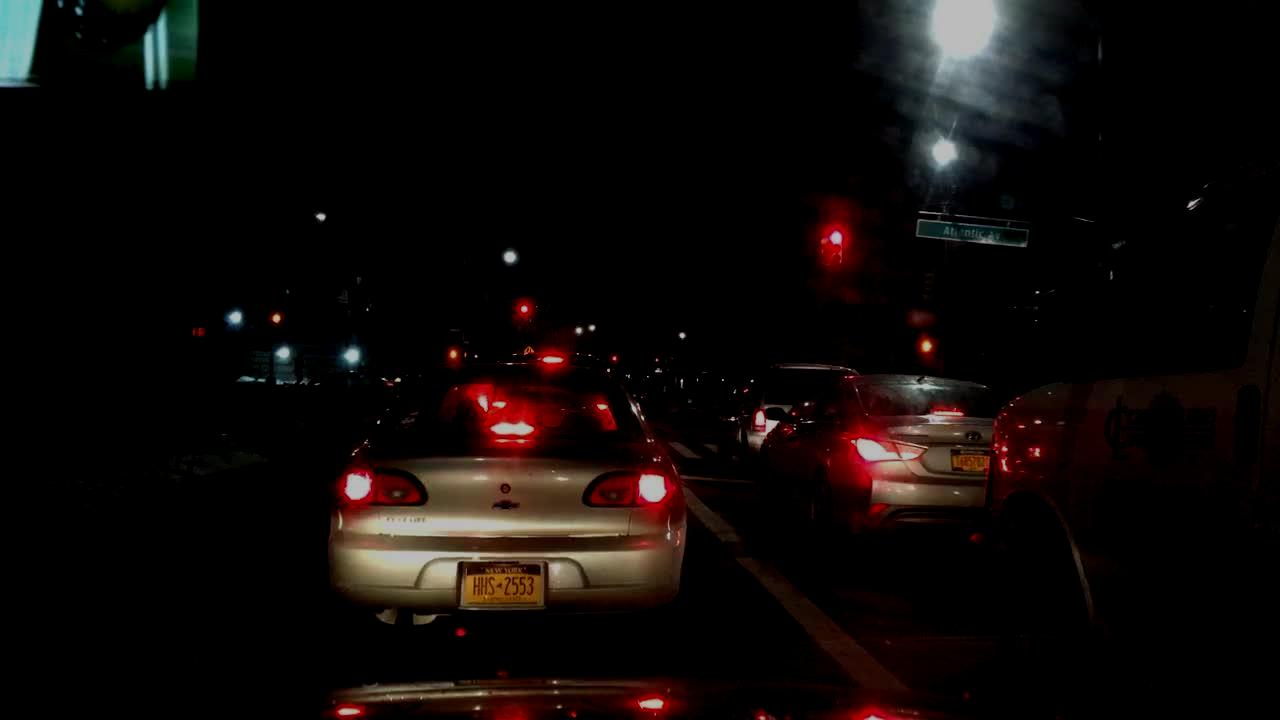Hyundai: (960, 430, 984, 442)
chevrolet: (490, 495, 525, 515)
